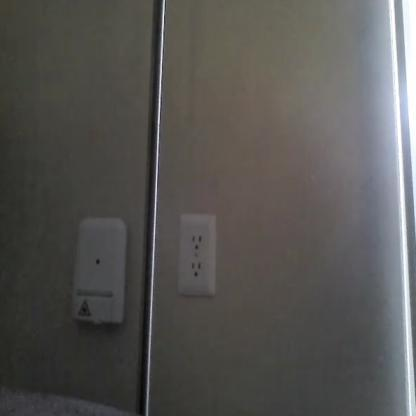OUTLET: (176, 212, 216, 296)
